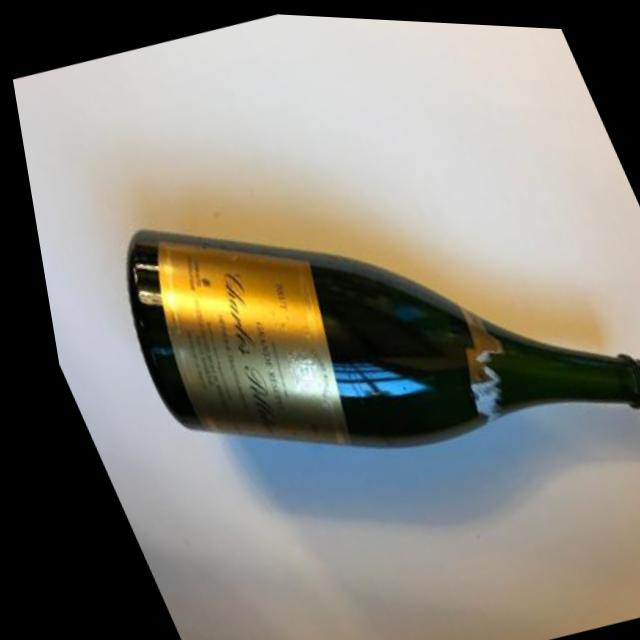glass: (5, 39, 640, 640)
